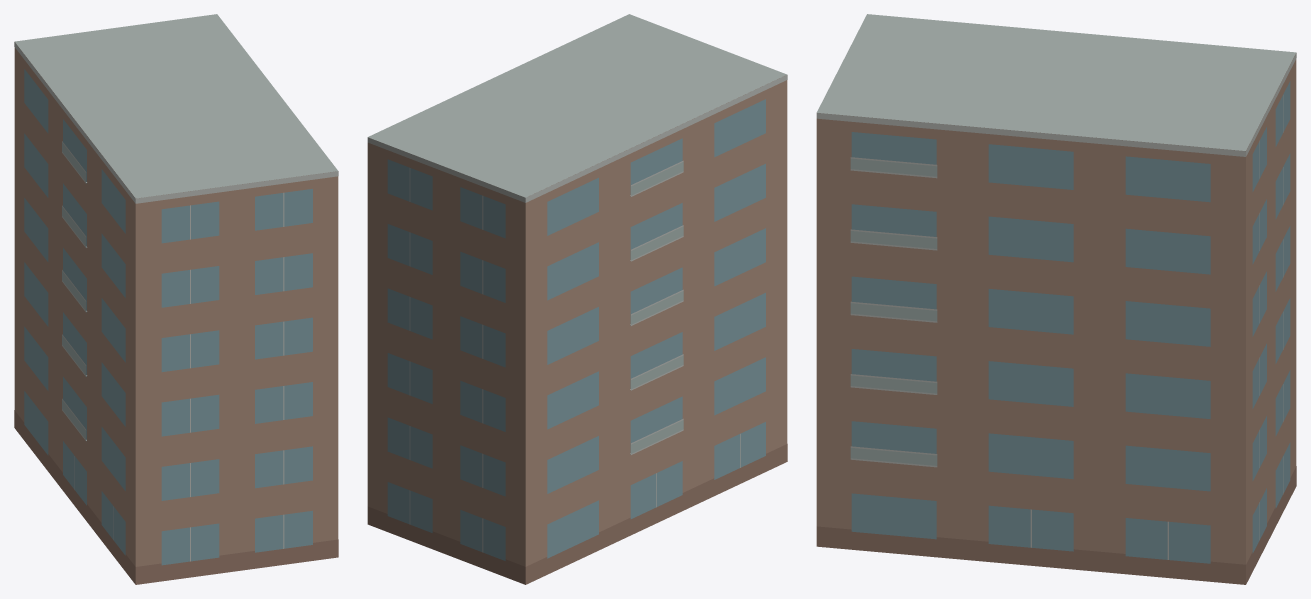
File: survey-upis-32653343.glb
3 renders of one model, left to right at view 1: azimuth 30°, elevation 25°; view 2: azimuth 150°, elevation 25°; view 3: azimuth 270°, elevation 25°, orthographic. The views are drawn at different scales.
Parts seen in each view (by area): view 1: survey-upis-32653343.tmp; view 2: survey-upis-32653343.tmp; view 3: survey-upis-32653343.tmp.
Boxes of the visible parts, bbox=[...] form: survey-upis-32653343.tmp: bbox=[14, 14, 338, 584]; survey-upis-32653343.tmp: bbox=[367, 14, 787, 584]; survey-upis-32653343.tmp: bbox=[816, 14, 1296, 584].
Bounding box in the file's own units: 12.14 × 17.9 × 17.96.
